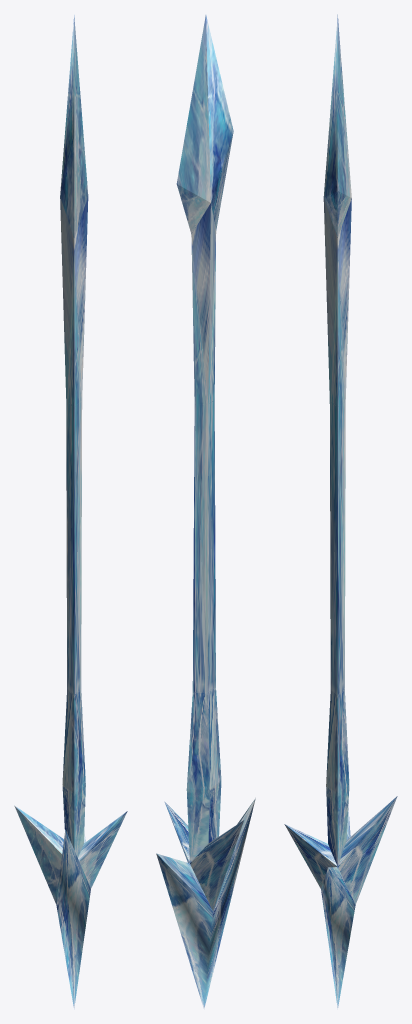
The model's file is cjz_jianshi.FBX.
3 renders of one model, left to right at view 1: azimuth 90°, elevation 25°; view 2: azimuth 210°, elevation 25°; view 3: azimuth 270°, elevation 25°, orthographic.
Visible parts, largest first — view 1: cjz_jianshi; view 2: cjz_jianshi; view 3: cjz_jianshi.
Boxes of the visible parts, <box> form: cjz_jianshi: <box>14,15,127,1009</box>; cjz_jianshi: <box>156,15,255,1009</box>; cjz_jianshi: <box>284,14,397,1009</box>.
Size of the model in its own units: 14.03 by 147 by 15.25.
1 material, 1 textured.
